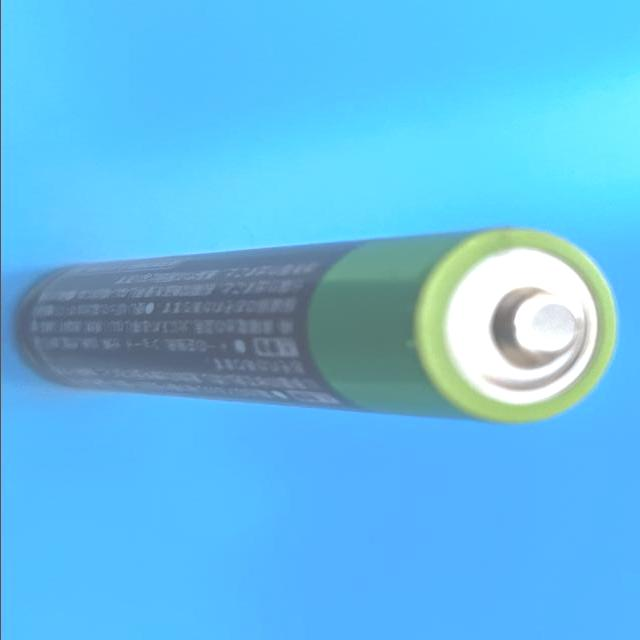AA: (19, 224, 618, 426)
